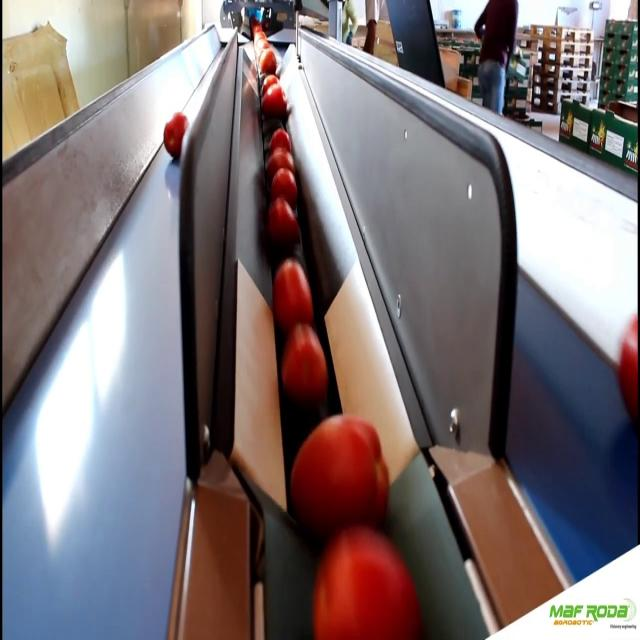Tomato: (312, 531, 415, 640), (293, 420, 391, 530), (282, 328, 328, 405), (615, 312, 640, 425), (274, 262, 312, 332), (156, 113, 188, 159), (262, 84, 290, 124), (274, 195, 294, 241), (268, 169, 296, 196), (268, 150, 294, 174), (266, 130, 291, 148), (259, 51, 277, 73)
